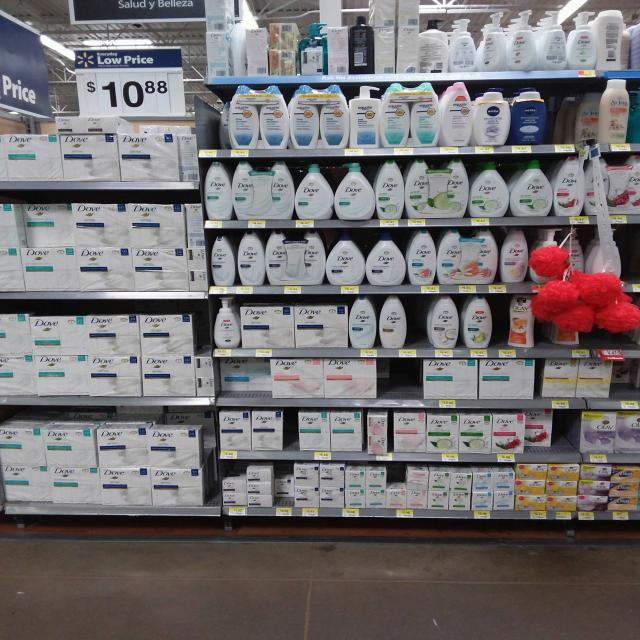void: (552, 84, 595, 161), (381, 359, 417, 407), (550, 406, 575, 464)
